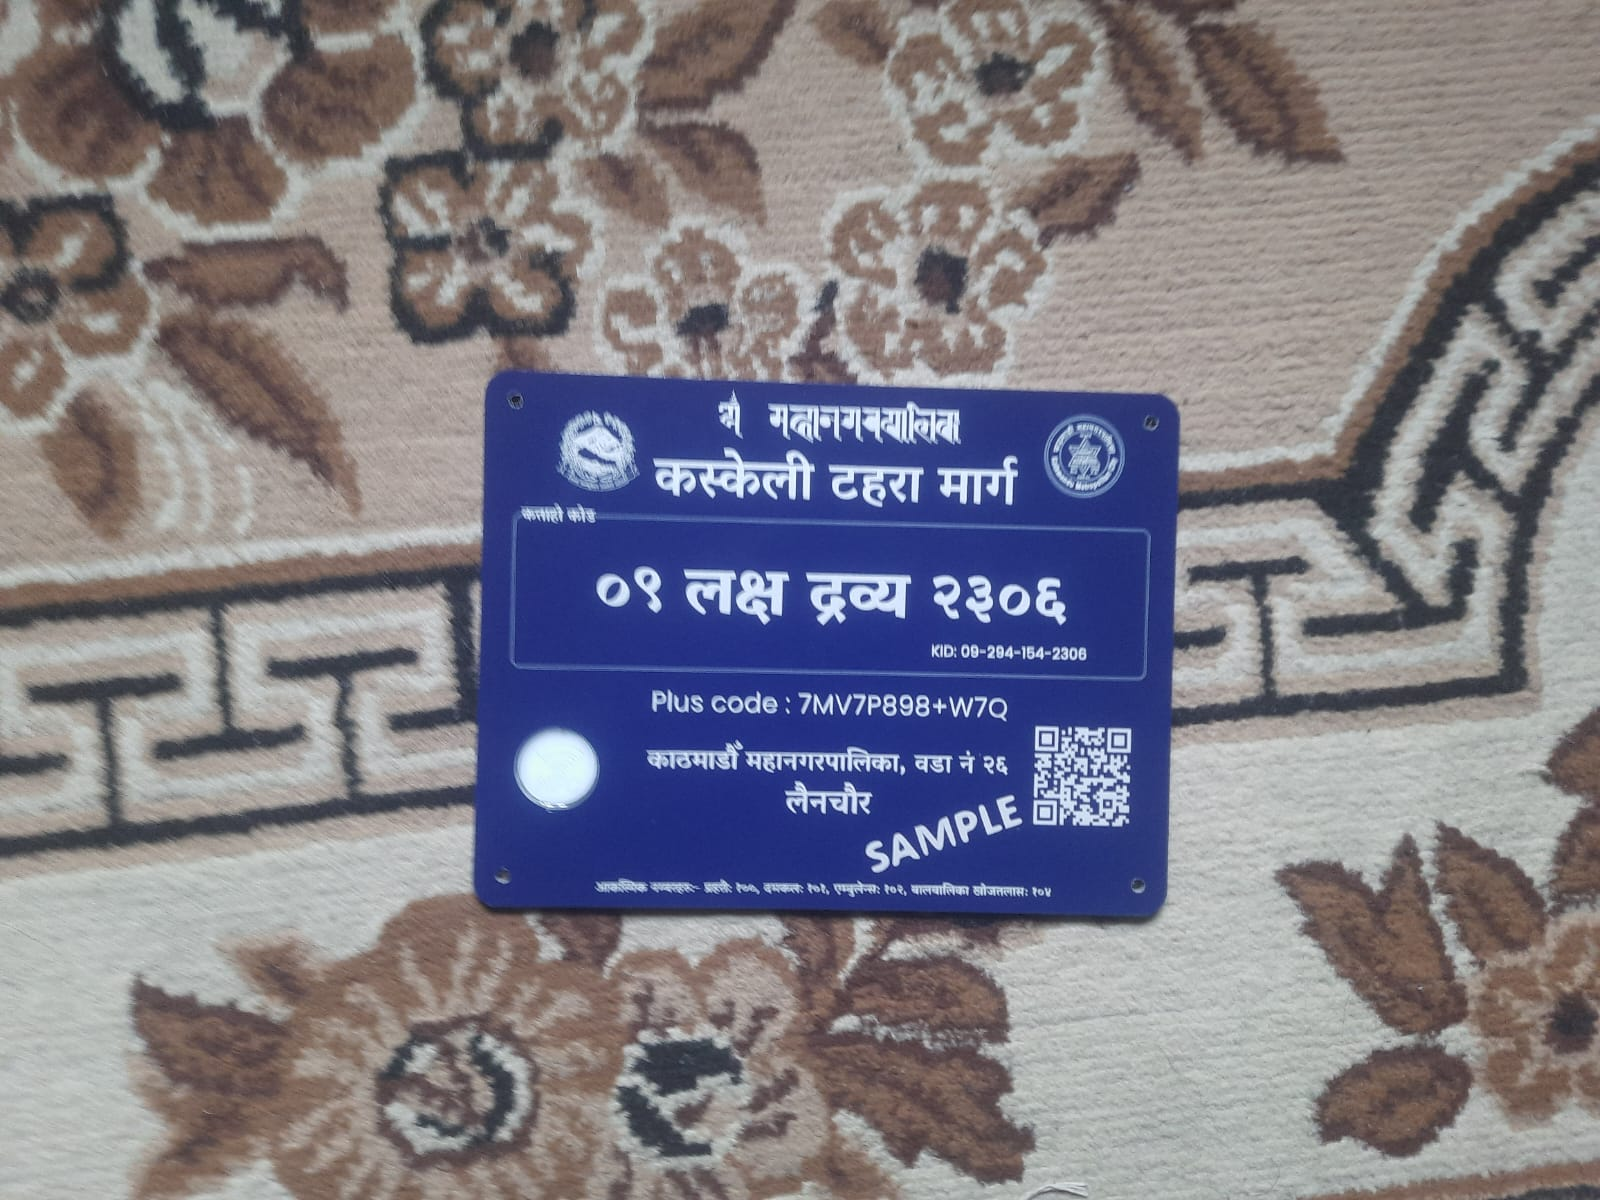Plate: (472, 363, 1181, 929)
